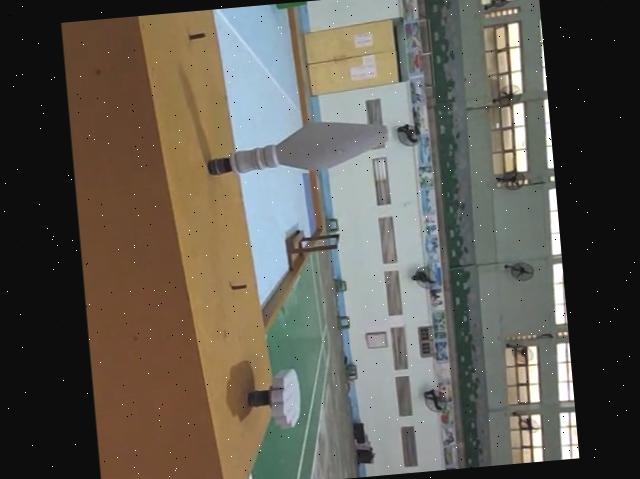Hand: (243, 363, 307, 428)
Sph: (195, 112, 391, 180)
